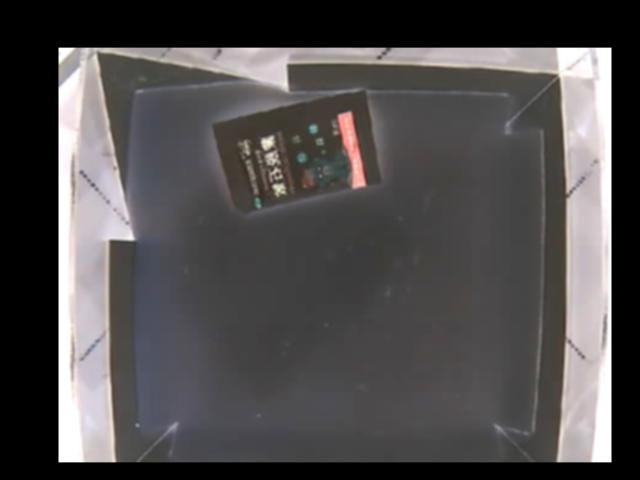Medicine: (209, 88, 385, 216)
